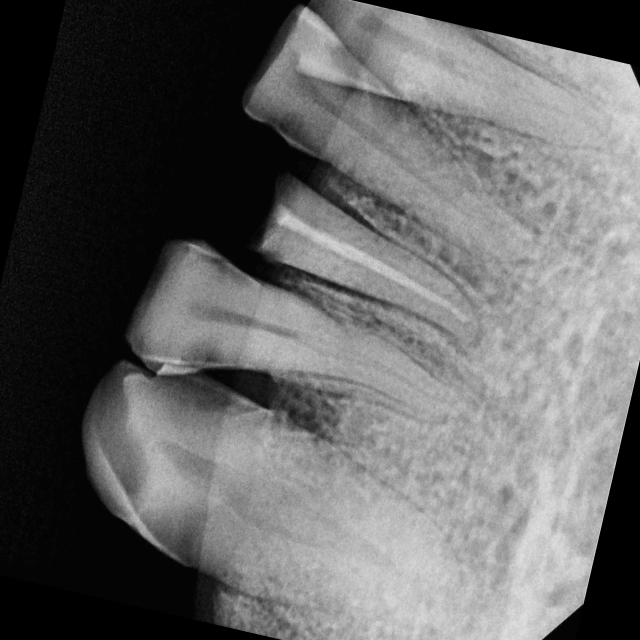Caries: (107, 302, 212, 433)
Normal: (231, 0, 551, 281)
RCT: (251, 155, 498, 367)
